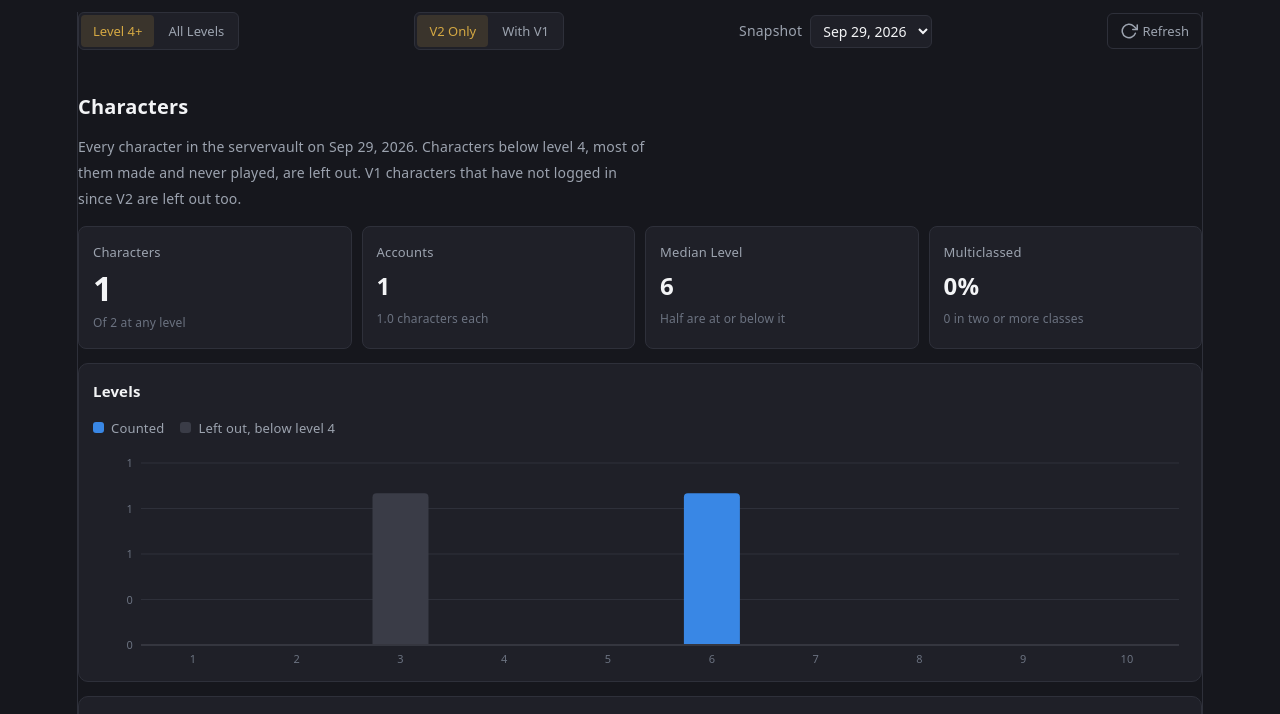
Scenario: DemographicsPage › leaves out characters under level 4 by default
This screenshot has width=1280, height=714.
Click the button "With V1". click: (526, 31)
box: [490, 15, 561, 47]
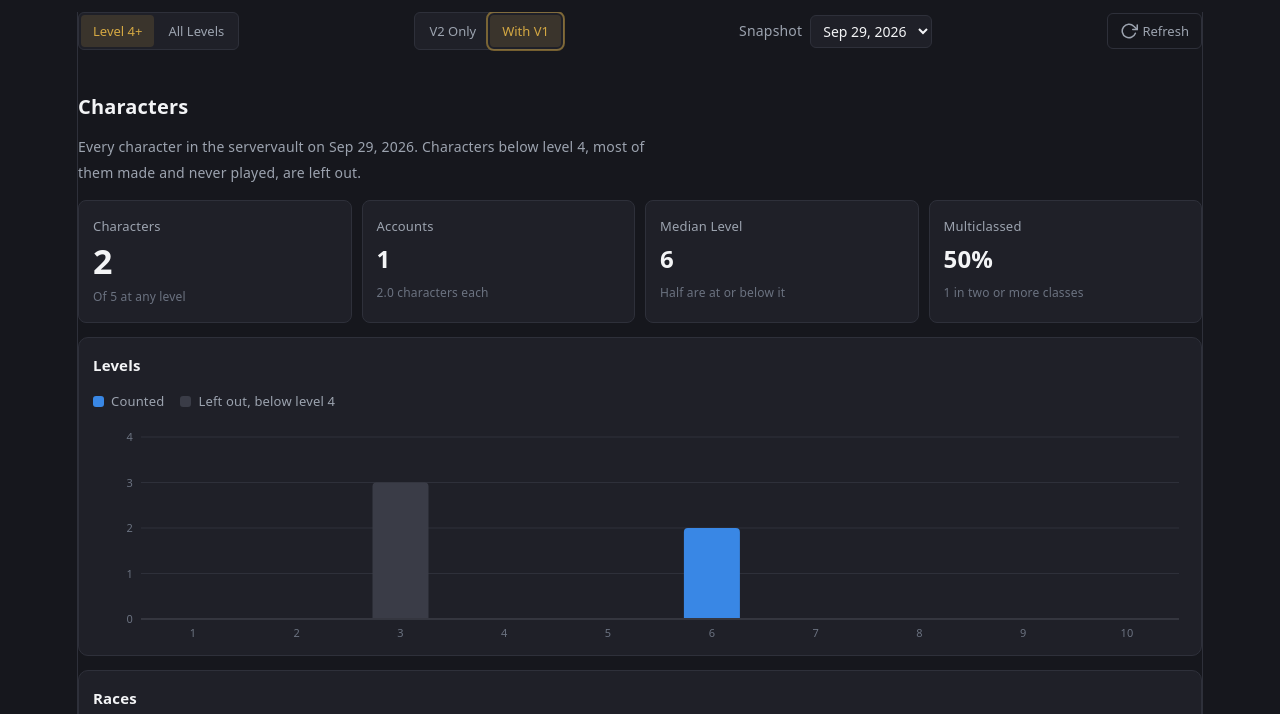
Check: the 1st text "2" is shown, box [93, 238, 113, 284]
Check: the text "Of 5 at any level" is shown, box [93, 288, 186, 305]
Check: the text "50%" is shown, box [944, 242, 993, 276]
